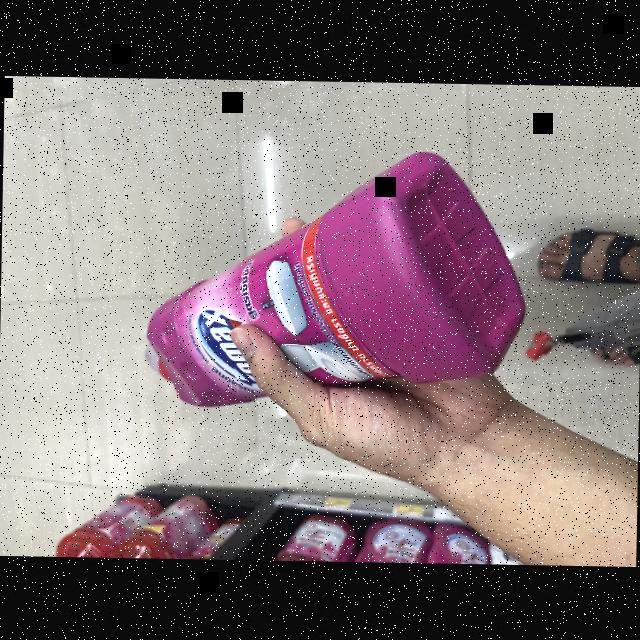chemical_plastic_bottle: (132, 132, 544, 418)
